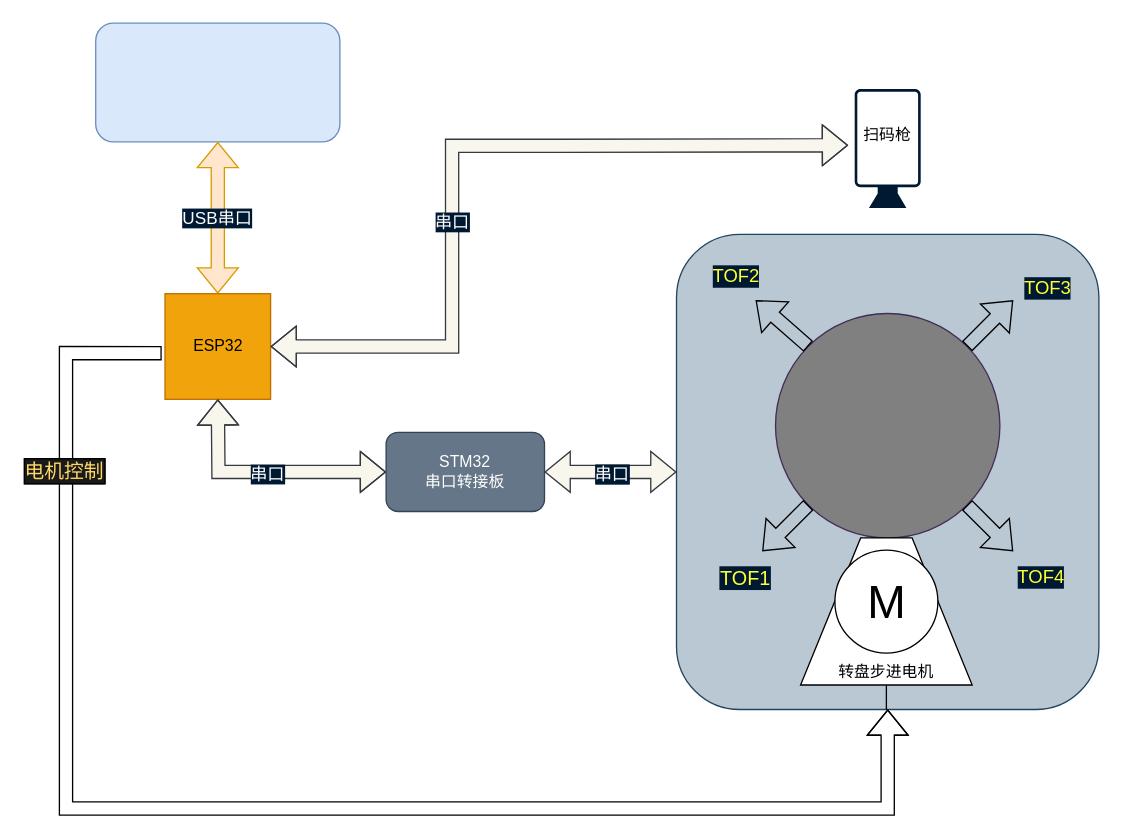
Image size: 1122x838. Some labels were removed from this diagram. Here are the shapes that lost their labels. From the top down, the centre of each, then its label:
At (217,82): "G2云台glict工站 电脑".
At (887,425): "测试转盘".
